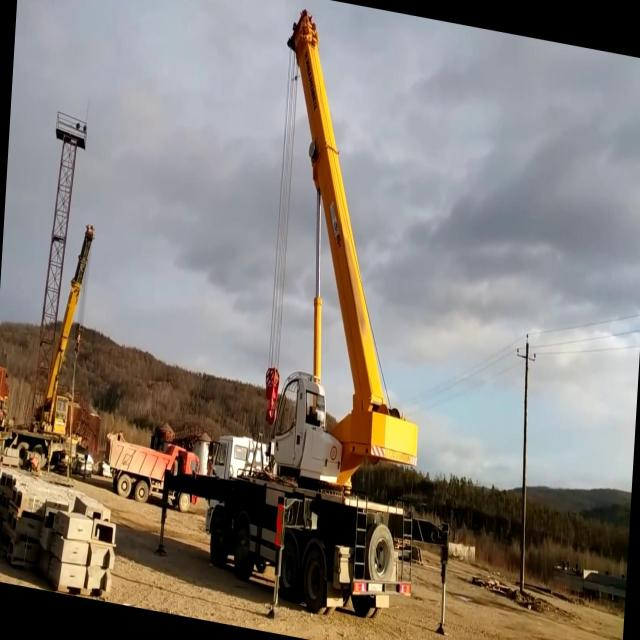crane: (153, 0, 488, 640), (0, 204, 106, 482)
